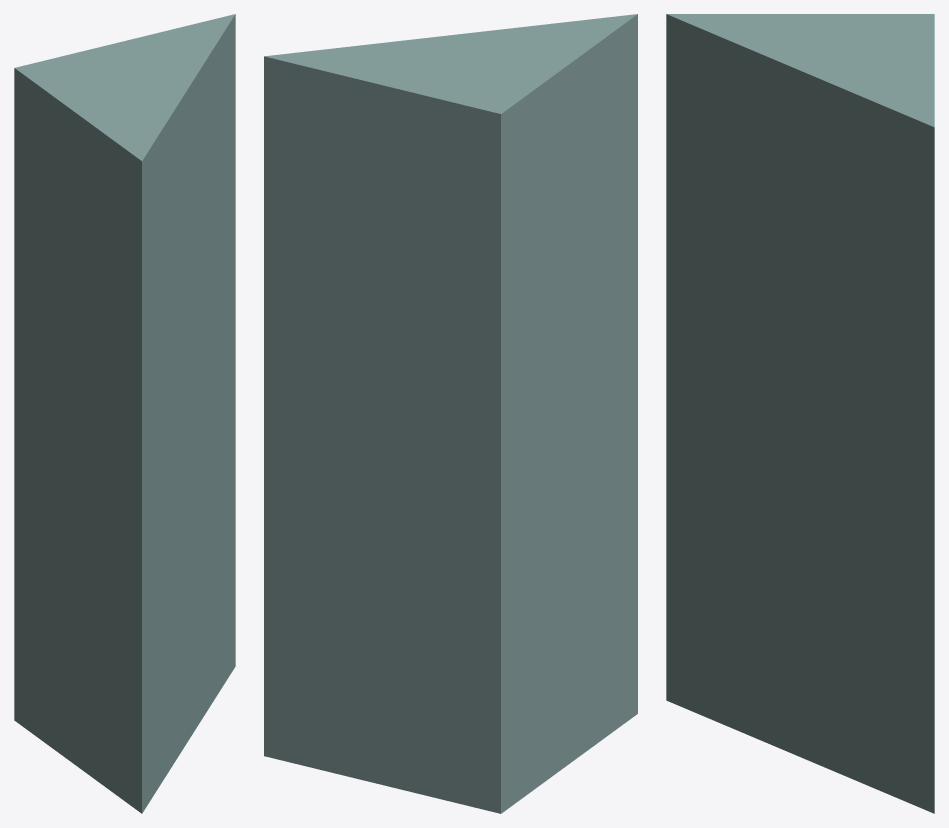
File: naturePack_098.fbx
3 renders of one model, left to right at view 1: azimuth 30°, elevation 25°; view 2: azimuth 150°, elevation 25°; view 3: azimuth 270°, elevation 25°, orthographic. The views are drawn at different scales.
Visible parts, largest first — view 1: naturePack_098; view 2: naturePack_098; view 3: naturePack_098.
Boxes of the visible parts, x1,y1,x2,y2 form: naturePack_098: [14, 14, 235, 813]; naturePack_098: [264, 14, 637, 813]; naturePack_098: [666, 14, 934, 813].
Bounding box in the file's own units: 78 × 220 × 78.
